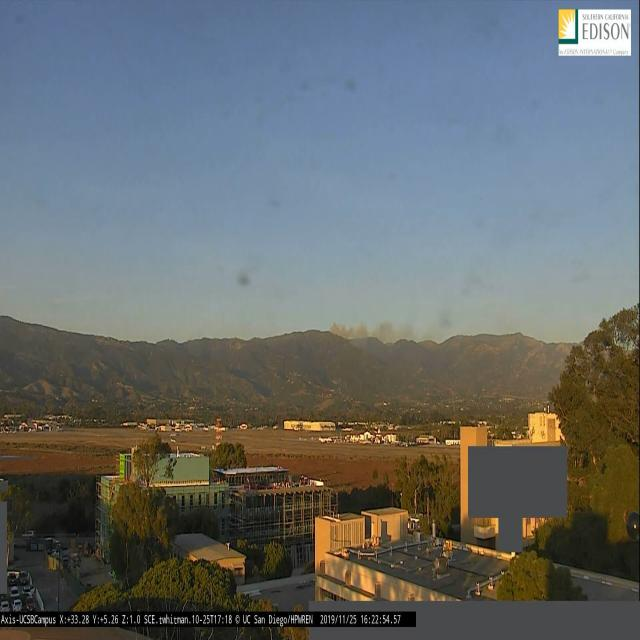smoke: (327, 321, 396, 344)
